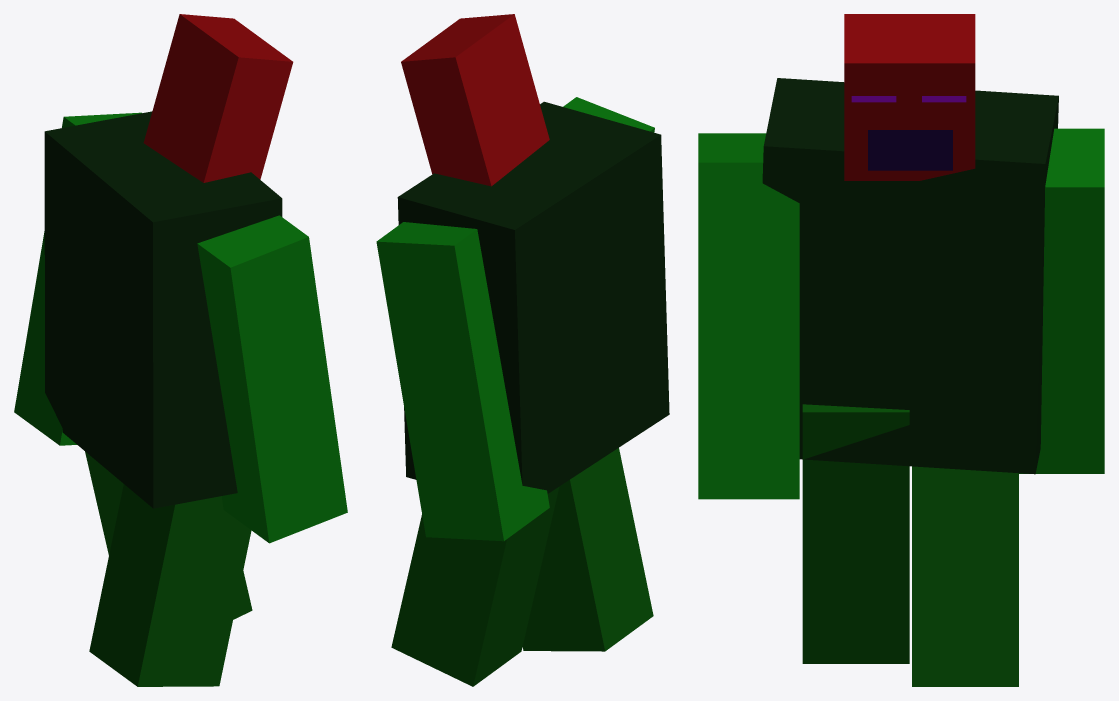
The model's file is walk_000003.obj.
3 renders of one model, left to right at view 1: azimuth 30°, elevation 25°; view 2: azimuth 150°, elevation 25°; view 3: azimuth 270°, elevation 25°, orthographic. The views are drawn at different scales.
Visible parts, largest first — view 1: Cube, leg.002_Cube.006, leg.001_Cube.007, Cube.001_Cube.003, leg.003_Cube.002, leg_Cube.001; view 2: Cube, leg.003_Cube.002, Cube.001_Cube.003, leg_Cube.001, leg.001_Cube.007, leg.002_Cube.006; view 3: Cube, leg.002_Cube.006, leg.001_Cube.007, leg_Cube.001, leg.003_Cube.002, Cube.001_Cube.003, Plane.002.
Boxes of the visible parts, x1,y1,x2,y2 form: Cube: (44,111,282,508); leg.002_Cube.006: (197,215,347,543); leg.001_Cube.007: (89,484,251,686); Cube.001_Cube.003: (143,14,293,182); leg.003_Cube.002: (14,112,141,445); leg_Cube.001: (85,451,252,619); Cube: (397,101,669,493); leg.003_Cube.002: (376,222,549,541); Cube.001_Cube.003: (401,14,549,186); leg_Cube.001: (391,487,559,686); leg.001_Cube.007: (522,448,653,651); leg.002_Cube.006: (563,97,654,132); Cube: (762,78,1058,474); leg.002_Cube.006: (698,133,799,499); leg.001_Cube.007: (802,404,909,663); leg_Cube.001: (912,466,1018,686); leg.003_Cube.002: (1019,128,1104,473); Cube.001_Cube.003: (844,14,975,180); Plane.002: (868,130,952,170).
Bounding box in the file's own units: 1.9 × 6.31 × 3.47.
